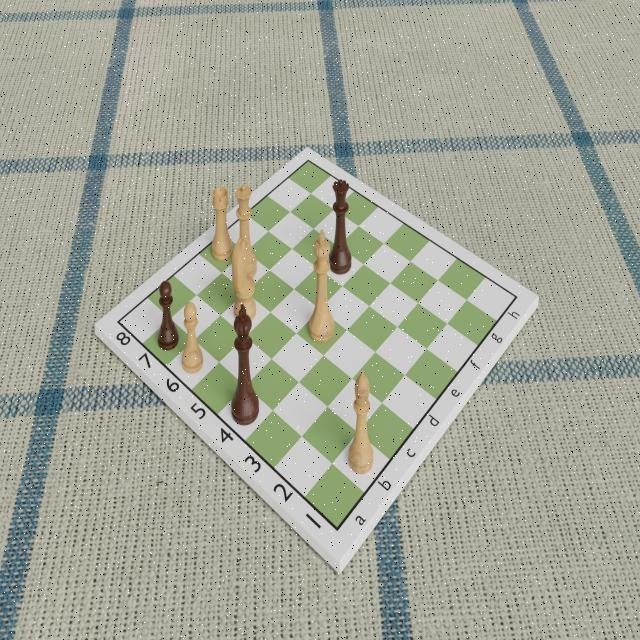black-king: (229, 301, 260, 430)
black-pawn: (155, 279, 180, 352)
black-queen: (326, 178, 354, 278)
white-bishop: (347, 369, 375, 477)
white-king: (306, 226, 336, 348)
white-knight: (232, 237, 258, 323)
white-pawn: (180, 299, 205, 374)
white-queen: (233, 181, 258, 280)
white-rook: (211, 182, 235, 262)
